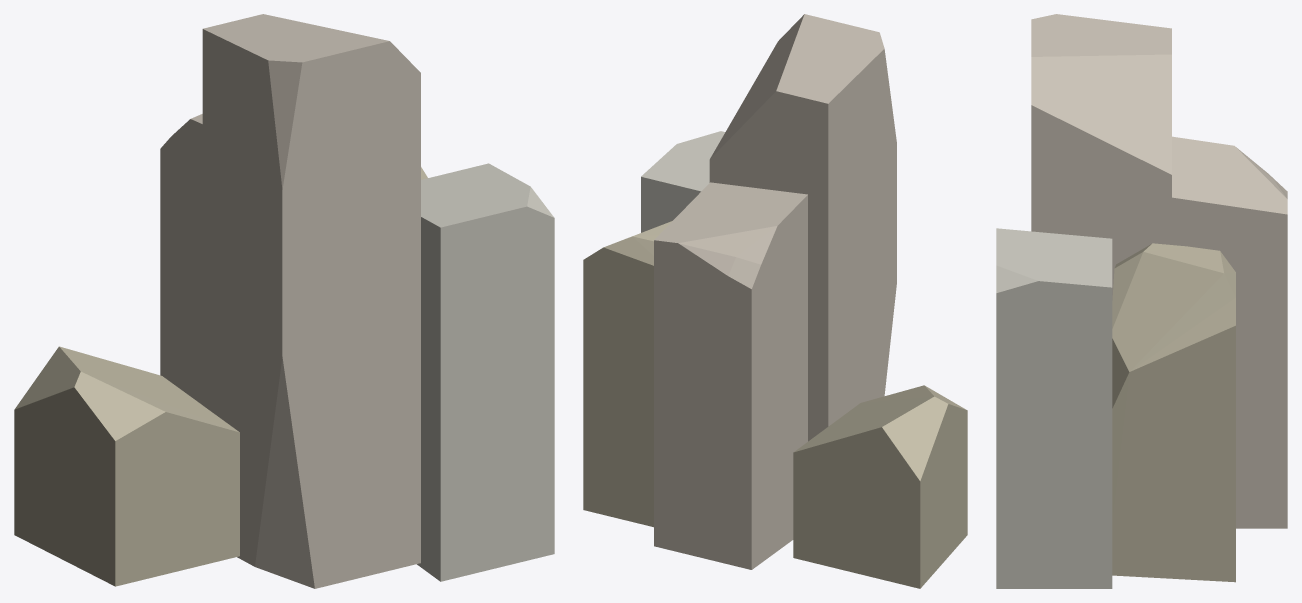
The model's file is Rocks_Square_l_03.fbx.
3 views of the same model, side by side, from view 1: azimuth 30°, elevation 25°; view 2: azimuth 150°, elevation 25°; view 3: azimuth 270°, elevation 25° (orthographic). The views are drawn at different scales.
Parts seen in each view (by area): view 1: Rocks_Square_l_03; view 2: Rocks_Square_l_03; view 3: Rocks_Square_l_03.
Part boxes in pixels (x1,y1,x2,y2): Rocks_Square_l_03: (14, 14, 554, 588); Rocks_Square_l_03: (583, 14, 967, 588); Rocks_Square_l_03: (996, 14, 1287, 588).
Size of the model in its own units: 2.5 by 3.18 by 1.79.
